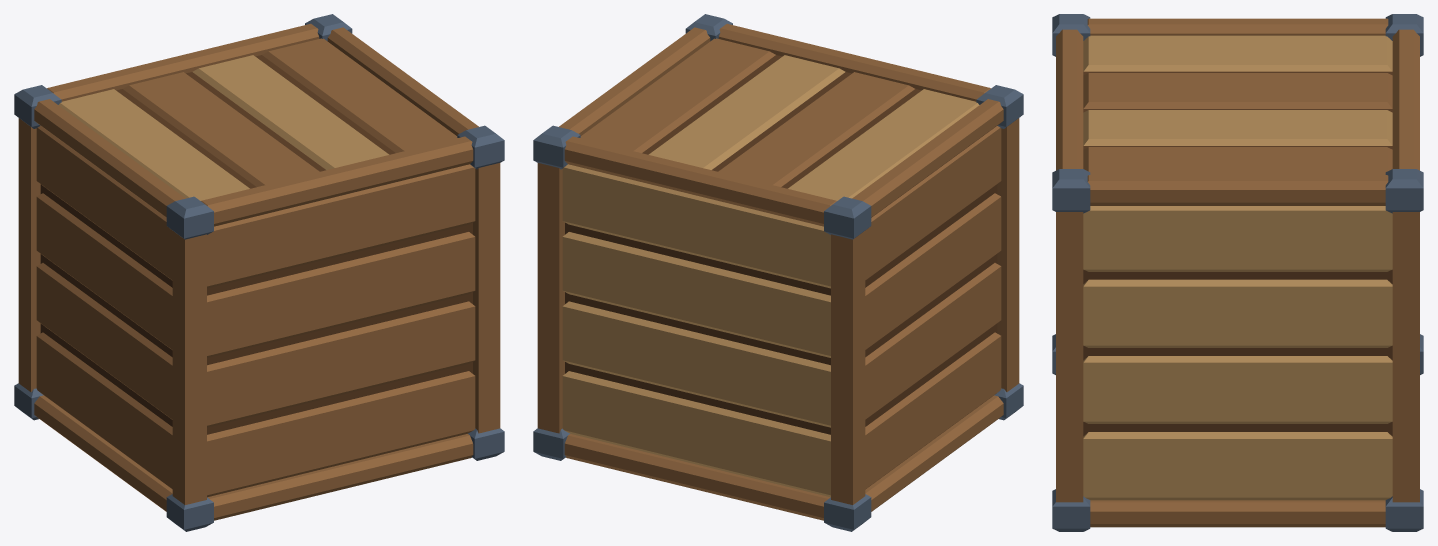
Rendered from Crate_14.glb.
The picture shows the model from 3 angles, left to right: view 1: azimuth 30°, elevation 25°; view 2: azimuth 150°, elevation 25°; view 3: azimuth 270°, elevation 25°; orthographic projection. The views are drawn at different scales.
Parts seen in each view (by area): view 1: Crate_14; view 2: Crate_14; view 3: Crate_14.
Part boxes in pixels (x1,y1,x2,y2): Crate_14: (14,14,504,531); Crate_14: (533,14,1023,531); Crate_14: (1052,14,1423,531).
Bounding box in the file's own units: 2.35 × 2.26 × 2.15.
